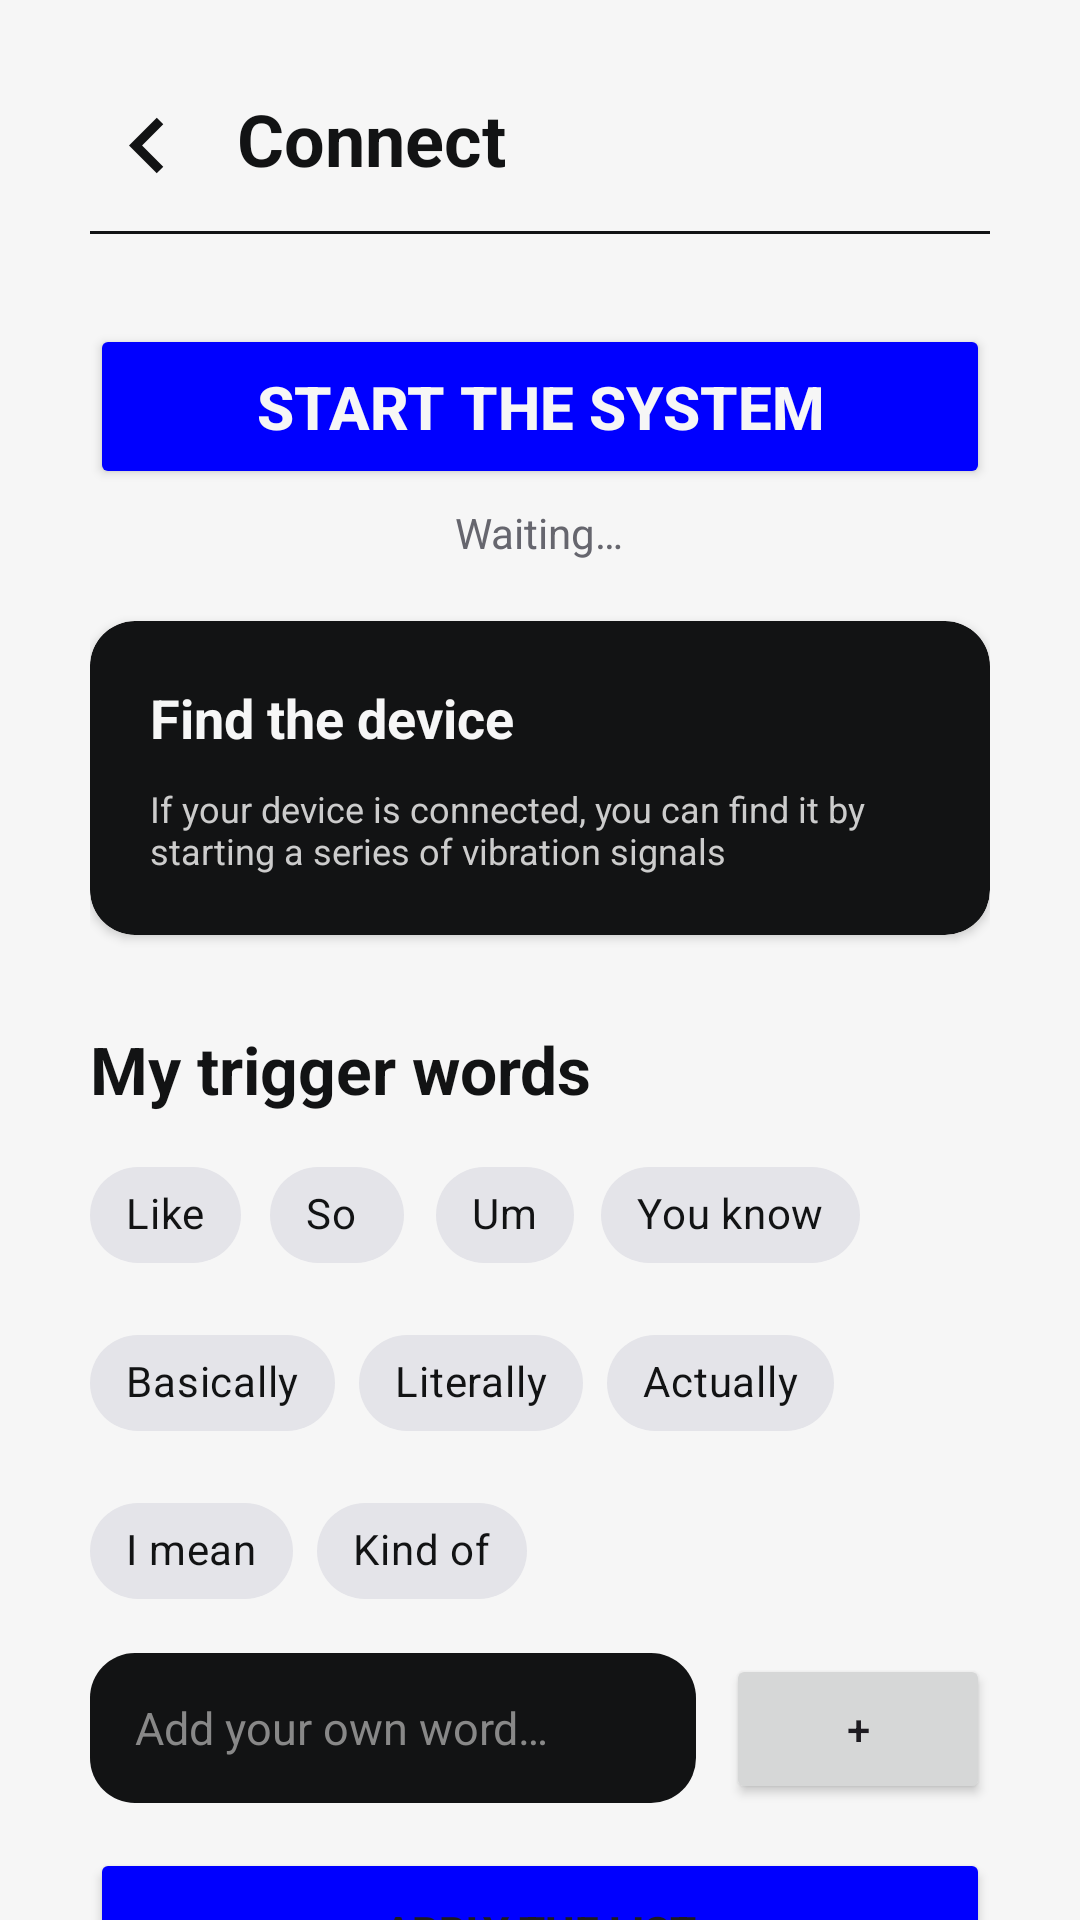

Named icons in this screenshot (1080w x 1920h) and their bounding boxes, detection(x1, y1, x2, y2):
arrow left: detection(129, 118, 163, 173)
